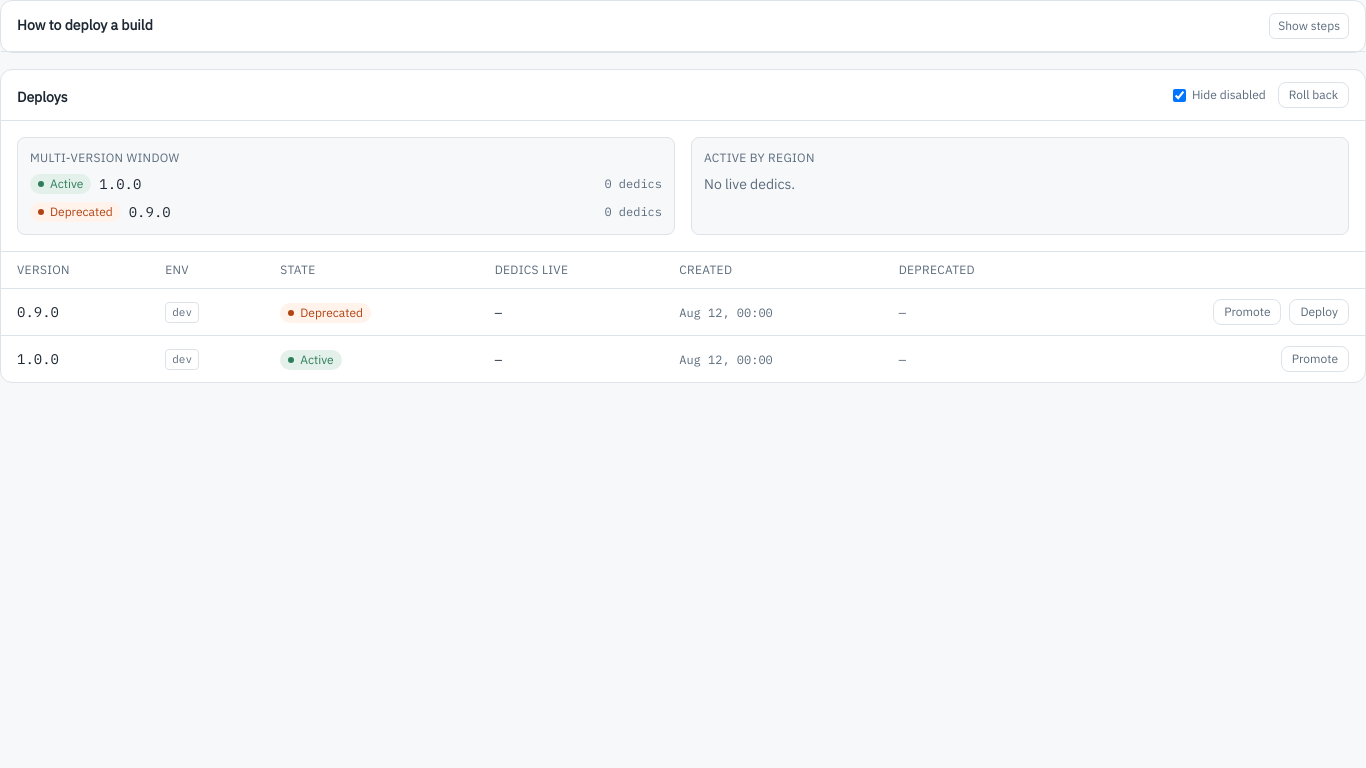
Test case: Деплои — тост в момент действия (warning мастера) › deploy вернул warning no_live_nodes → тост говорит, что дедиков не будет, а не «успех»
Click the button "Deploy". click: (1319, 312)
box: [1290,299,1349,325]
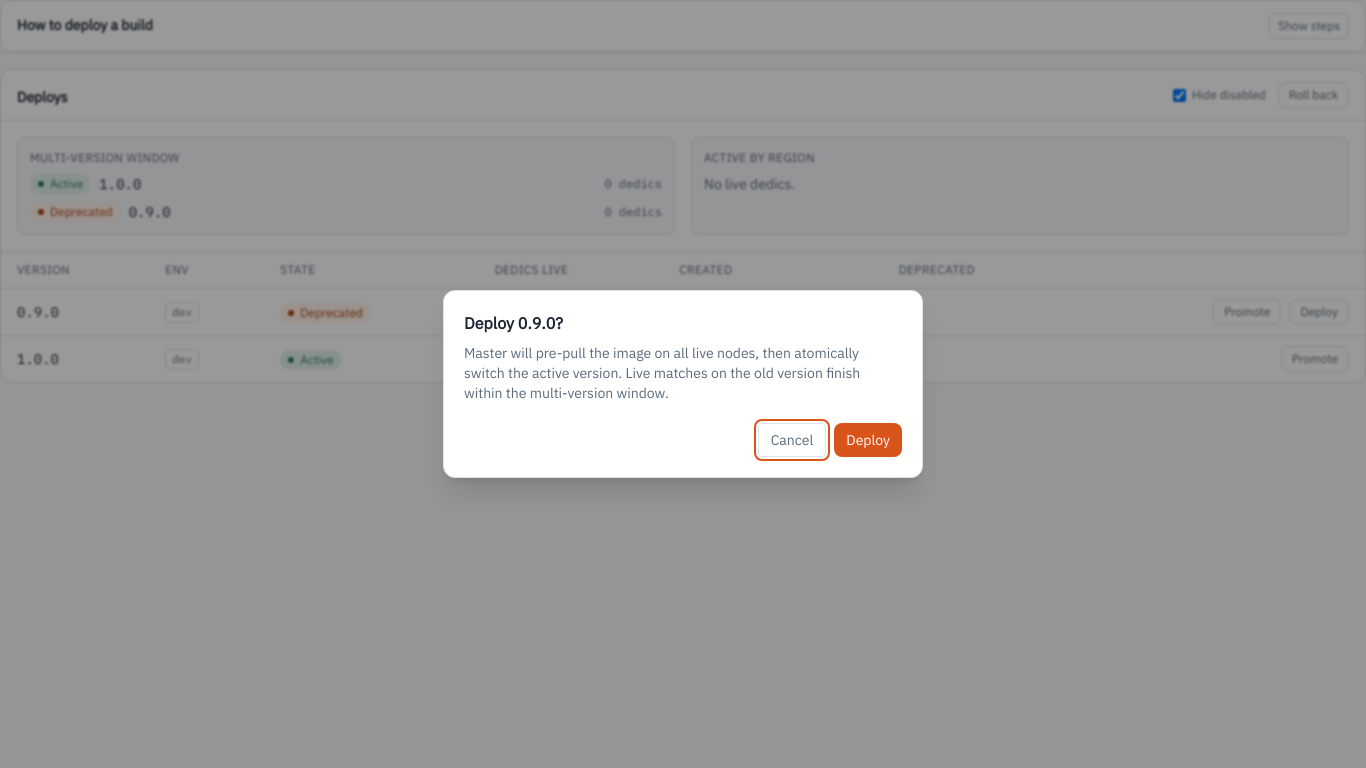
Click the button "Deploy". click: (868, 440)
box: [834,423,902,457]
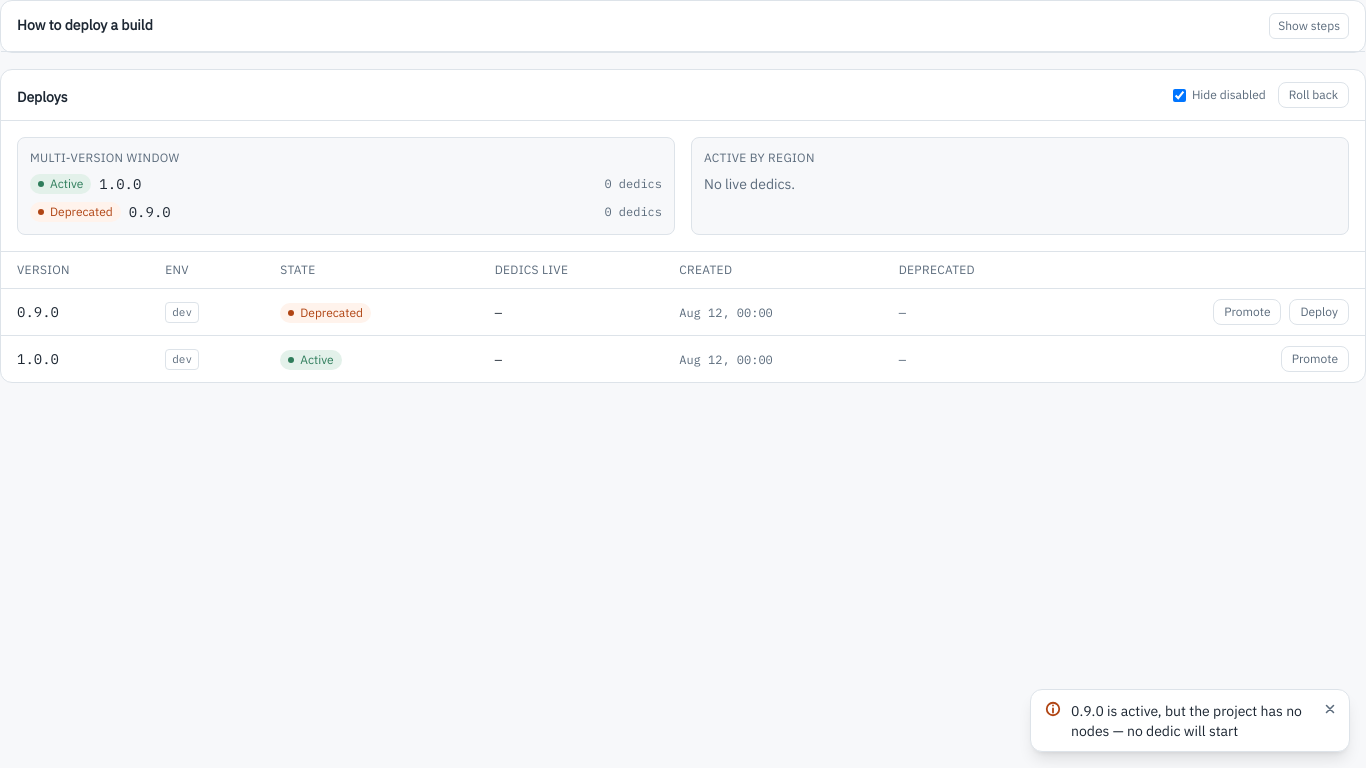
expect the text "0.9.0 is active, but the project has no nodes — no dedic will start" is shown: met, box [1071,700,1311,741]
